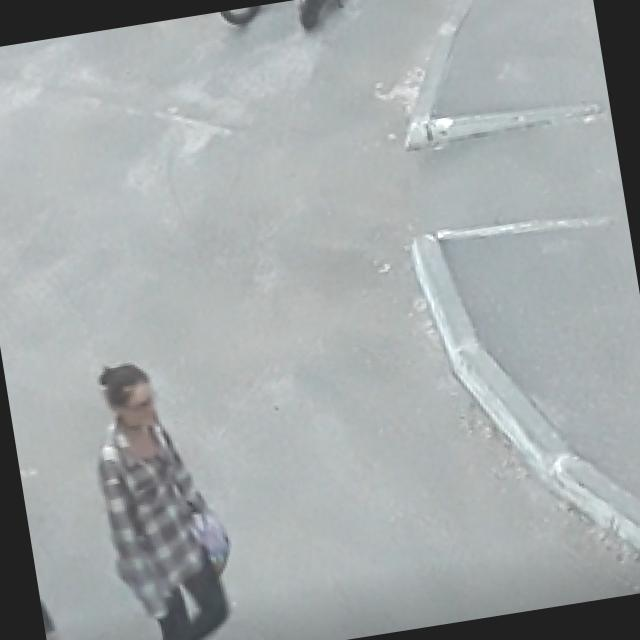person: (79, 349, 248, 640)
